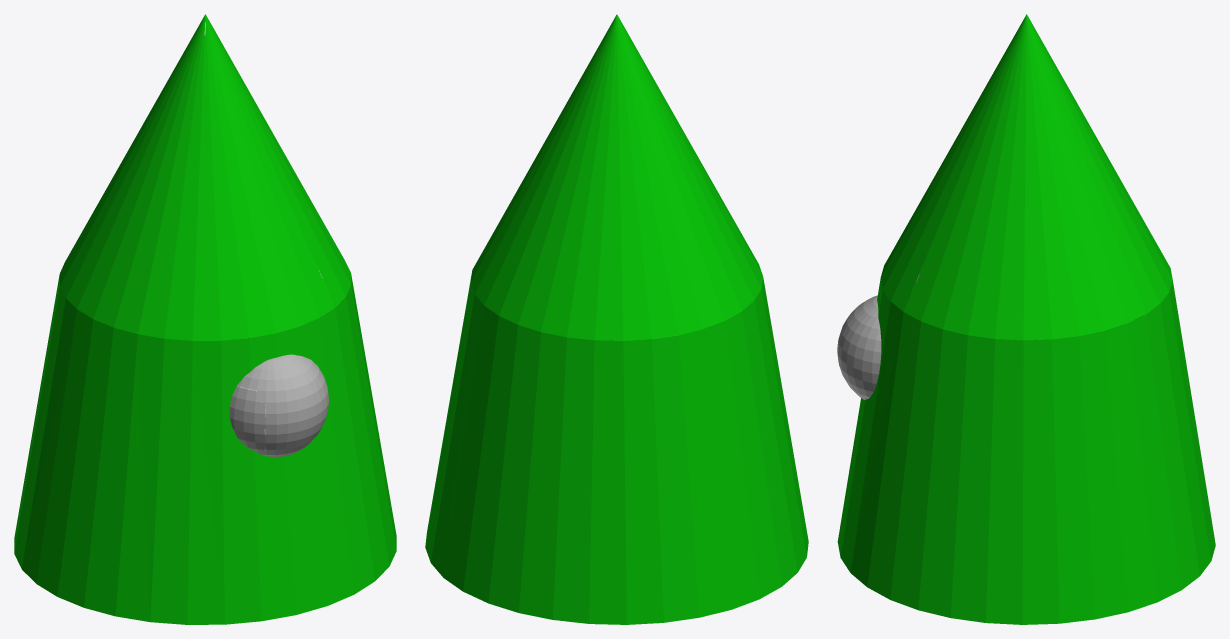
Rendered from jumpEnemy.obj.
3 views of the same model, side by side, from view 1: azimuth 30°, elevation 25°; view 2: azimuth 150°, elevation 25°; view 3: azimuth 270°, elevation 25° (orthographic).
Visible parts, largest first — view 1: 球.002_球.003; view 2: 球.002_球.003; view 3: 球.002_球.003.
Boxes of the visible parts, x1,y1,x2,y2 form: 球.002_球.003: (14,14,396,624); 球.002_球.003: (425,14,808,624); 球.002_球.003: (837,14,1215,624).
Bounding box in the file's own units: 2.63 × 4 × 2.59.
Materials: 1 (1 with a texture image).
